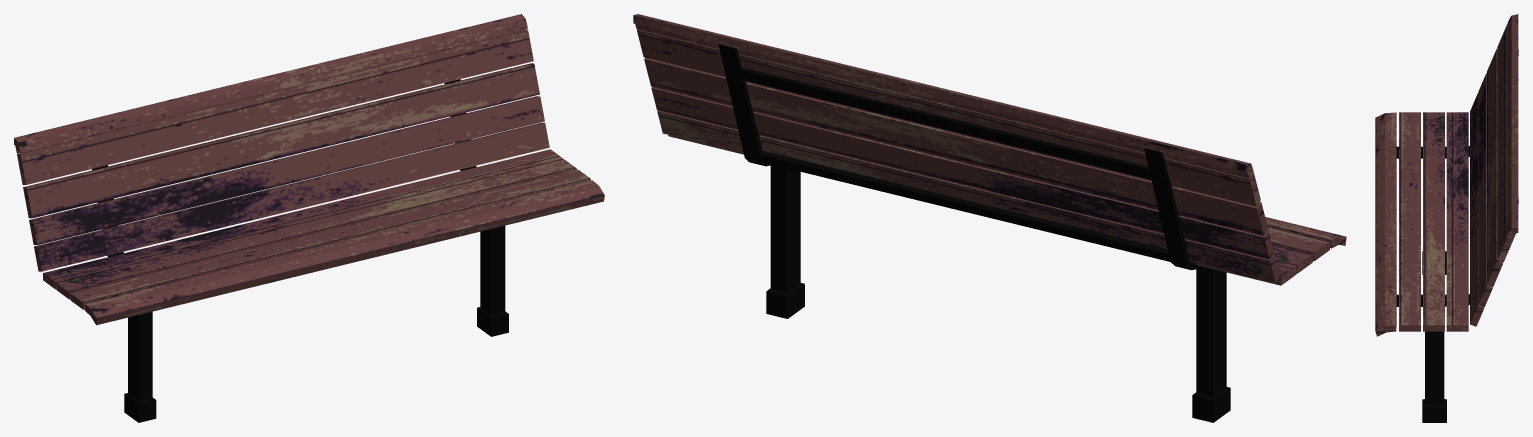
The model's file is bancos1.fbx.
3 renders of one model, left to right at view 1: azimuth 30°, elevation 25°; view 2: azimuth 150°, elevation 25°; view 3: azimuth 270°, elevation 25°, orthographic. The views are drawn at different scales.
Parts seen in each view (by area): view 1: Park Bench_001.001; view 2: Park Bench_001.001; view 3: Park Bench_001.001.
Boxes of the visible parts, x1=… form: Park Bench_001.001: x1=14, y1=14, x2=604, y2=422; Park Bench_001.001: x1=633, y1=14, x2=1346, y2=422; Park Bench_001.001: x1=1375, y1=14, x2=1518, y2=422.
Bounding box in the file's own units: 200 × 98.51 × 57.05.
2 materials, 1 textured.
